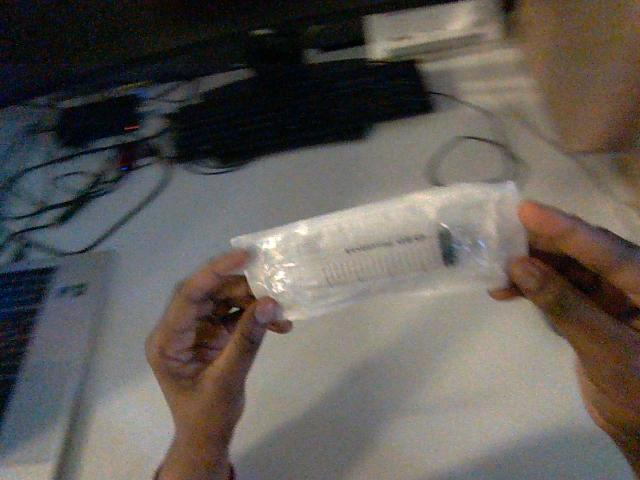syringe: (231, 182, 526, 319)
